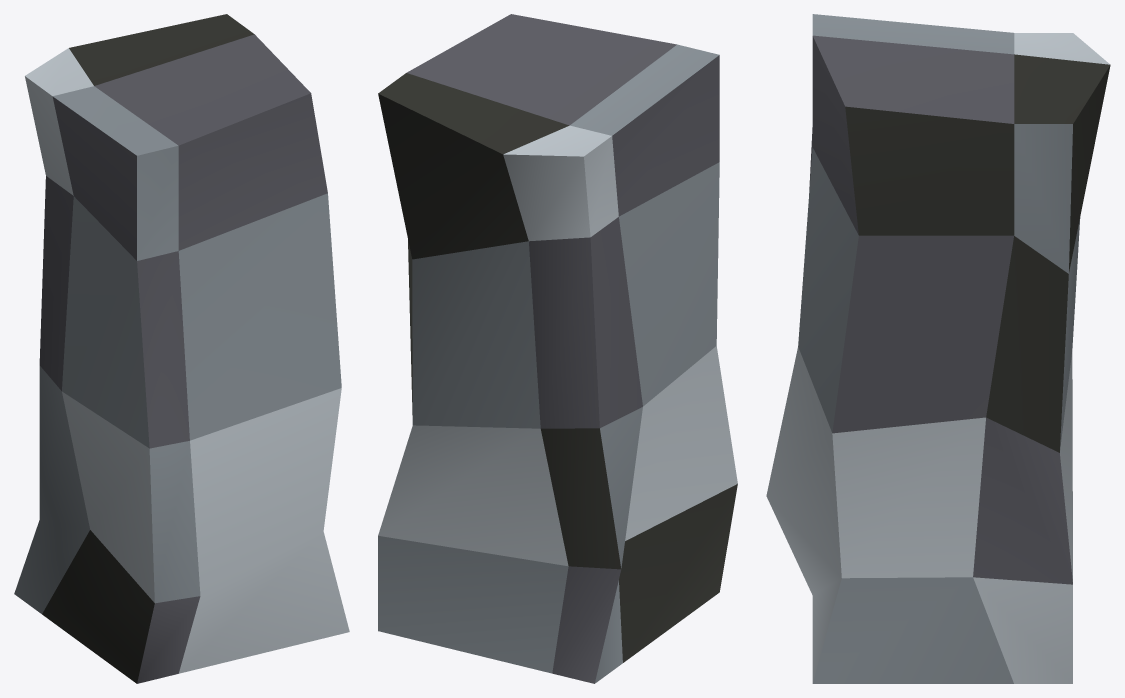
The model's file is ruina2contextura.fbx.
3 renders of one model, left to right at view 1: azimuth 30°, elevation 25°; view 2: azimuth 150°, elevation 25°; view 3: azimuth 270°, elevation 25°, orthographic. The views are drawn at different scales.
Parts seen in each view (by area): view 1: pCube1; view 2: pCube1; view 3: pCube1.
Boxes of the visible parts, x1,y1,x2,y2 form: pCube1: (14,14,349,683); pCube1: (378,14,737,683); pCube1: (766,14,1110,683).
Size of the model in its own units: 0.4317 by 1.03 by 0.5661.
1 material, 1 textured.
